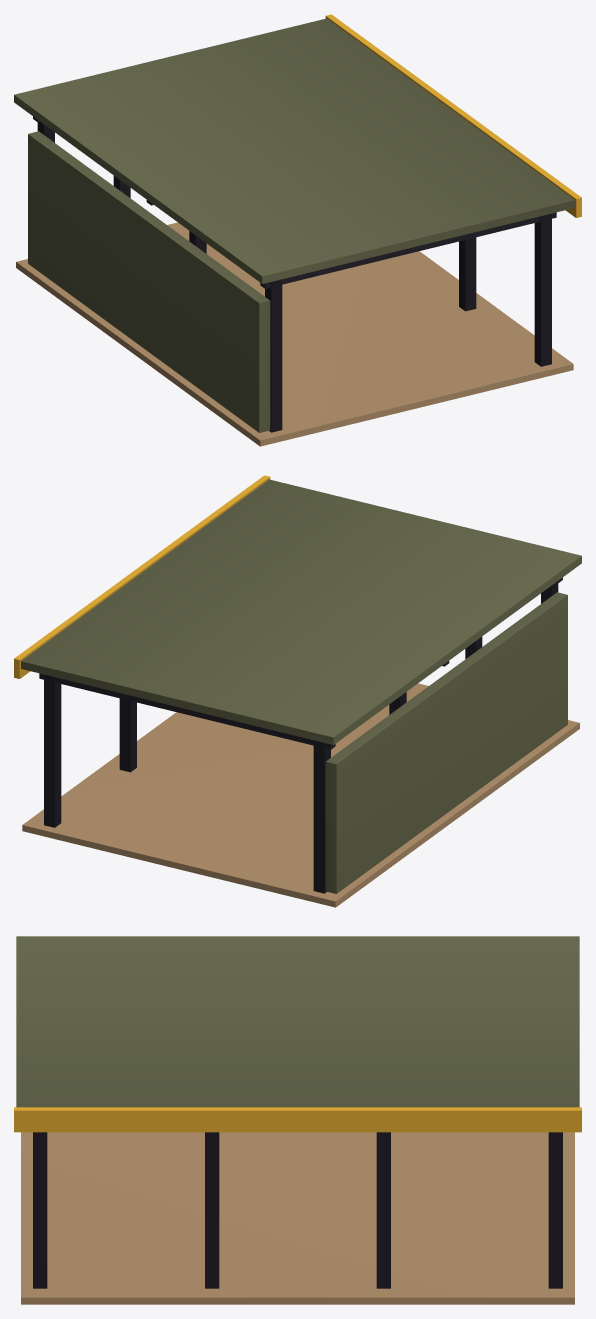
The picture shows the model from 3 angles, top to bottom: view 1: azimuth 30°, elevation 25°; view 2: azimuth 150°, elevation 25°; view 3: azimuth 270°, elevation 25°; orthographic projection. The views are drawn at different scales.
Parts seen in each view (by area): view 1: body_pal_olive, body_pal_khaki, body_pal_uiDark, body_pal_schoolBusYellow; view 2: body_pal_olive, body_pal_khaki, body_pal_uiDark, body_pal_schoolBusYellow; view 3: body_pal_olive, body_pal_khaki, body_pal_schoolBusYellow, body_pal_uiDark.
Boxes of the visible parts, x1,y1,x2,y2 form: body_pal_olive: (14,18,574,432); body_pal_khaki: (16,222,573,446); body_pal_uiDark: (33,116,556,432); body_pal_schoolBusYellow: (325,14,581,217); body_pal_olive: (21,479,581,893); body_pal_khaki: (22,683,579,907); body_pal_uiDark: (39,577,562,893); body_pal_schoolBusYellow: (14,475,270,678); body_pal_olive: (16,936,579,1107); body_pal_khaki: (21,1132,574,1304); body_pal_schoolBusYellow: (14,1107,581,1132); body_pal_uiDark: (33,1132,562,1288).
Size of the model in its own units: 8.74 by 4.55 by 11.9.
